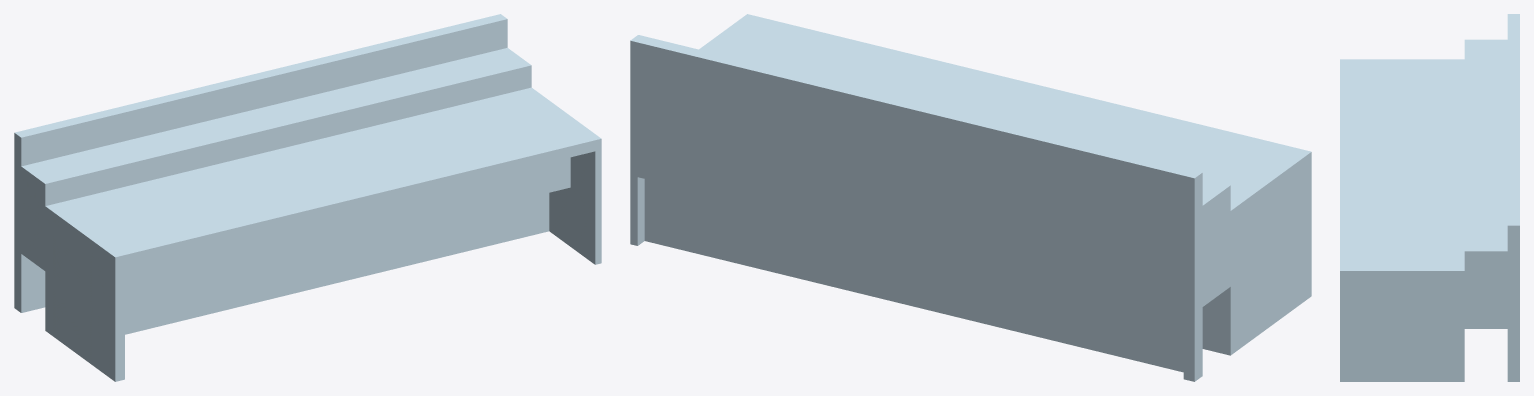
Rendered from EB_Labtable.fbx.
The picture shows the model from 3 angles, left to right: view 1: azimuth 30°, elevation 25°; view 2: azimuth 150°, elevation 25°; view 3: azimuth 270°, elevation 25°; orthographic projection. The views are drawn at different scales.
Parts seen in each view (by area): view 1: LaboratoryTable; view 2: LaboratoryTable; view 3: LaboratoryTable.
Part boxes in pixels (left/top/right/bottom): LaboratoryTable: left=14, top=14, right=601, bottom=381; LaboratoryTable: left=630, top=14, right=1311, bottom=381; LaboratoryTable: left=1340, top=14, right=1519, bottom=381.
Size of the model in its own units: 200 by 68.94 by 71.87.
